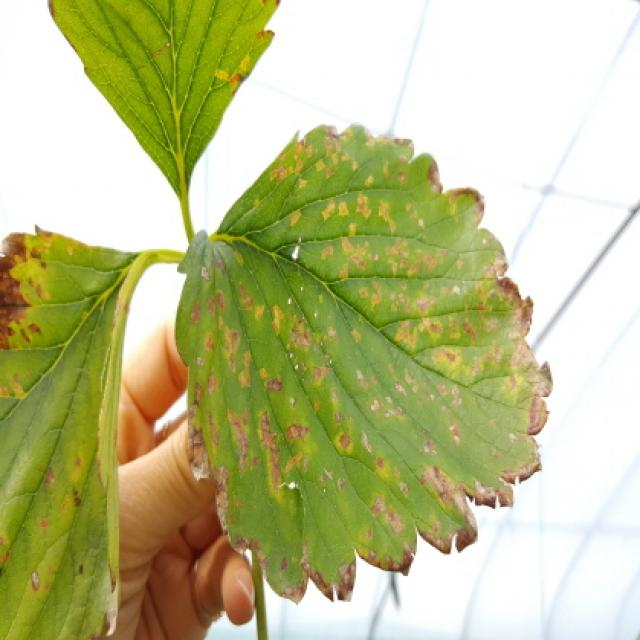Angular Leafspot: (175, 123, 555, 609), (0, 223, 153, 638), (46, 0, 280, 214)
